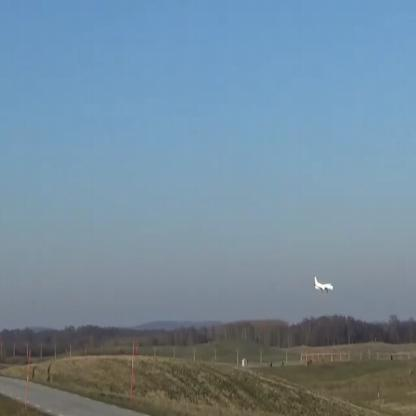CIV_Plane: (312, 274, 332, 292)
